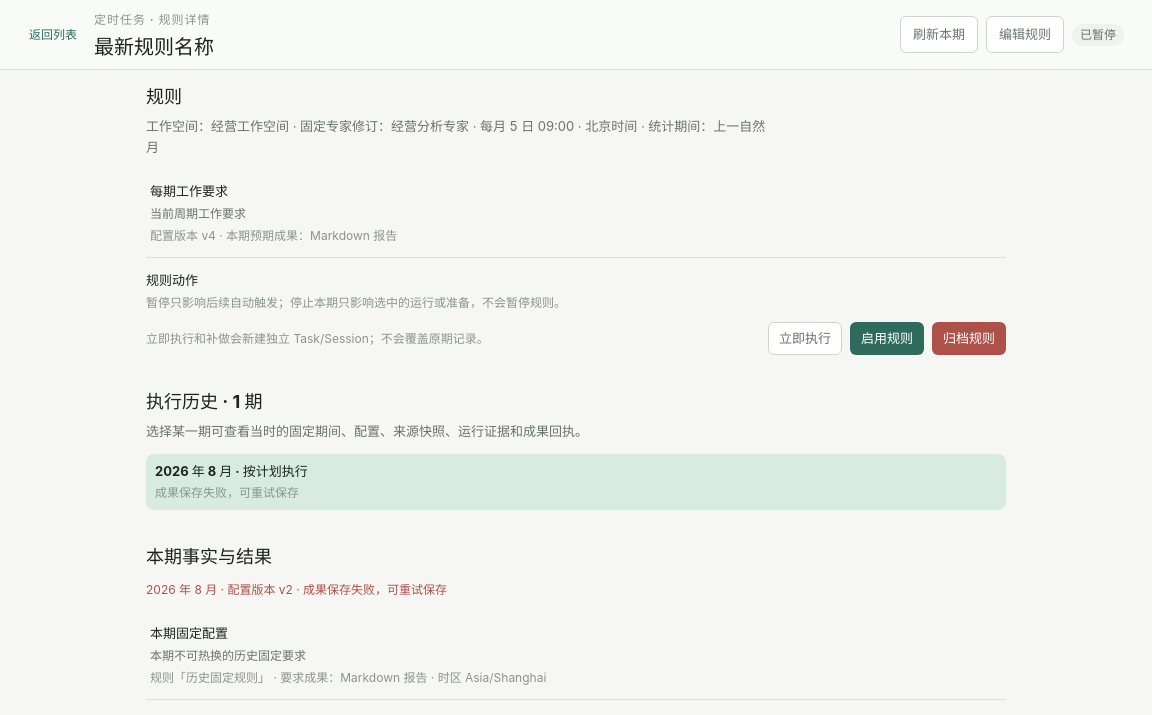
Test case: ScheduleDetailPage › retains old occurrence content when refreshing the detail fails
Expected: the text "本期不可热换的历史固定要求" is shown, [150, 648, 306, 663]
Click the button "刷新本期": (939, 35) [900, 16, 978, 53]
(page scrolled)
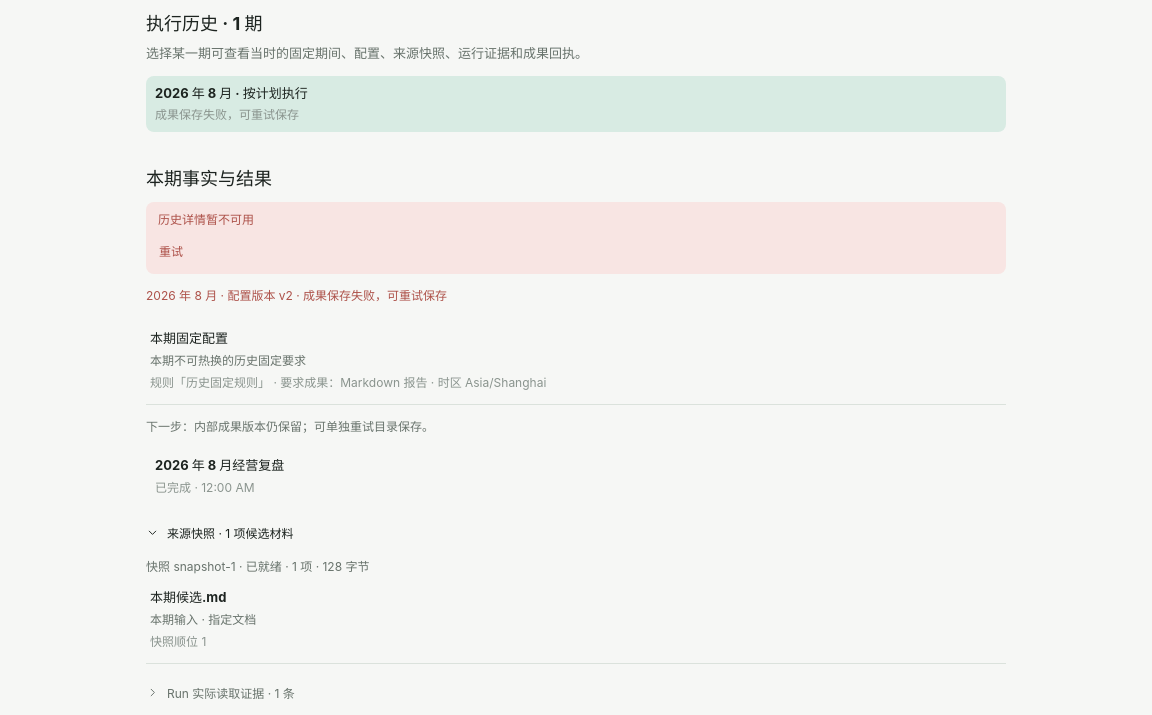
Expected: the text "本期不可热换的历史固定要求" is shown, [150, 353, 306, 368]
Now the text "历史详情暂不可用" is shown, box [158, 212, 254, 228]
